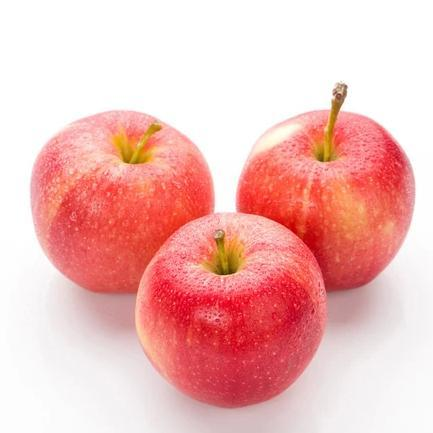apple: (134, 215, 331, 412), (27, 116, 215, 295), (239, 99, 414, 289)
